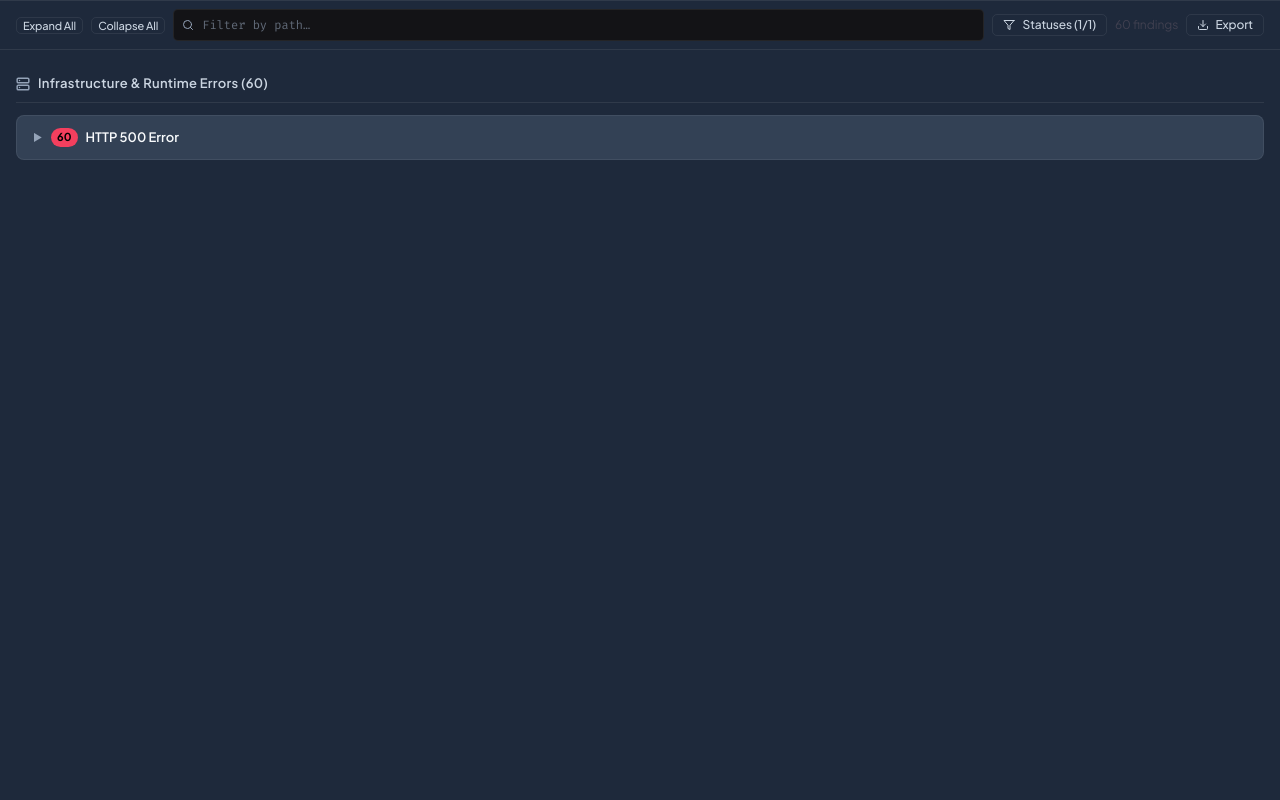
Inspector Component › limits group list to 50 items and shows more on button click
Click the text "HTTP 500 Error".
click(640, 137)  # box [16,114,1264,160]
(page scrolled)
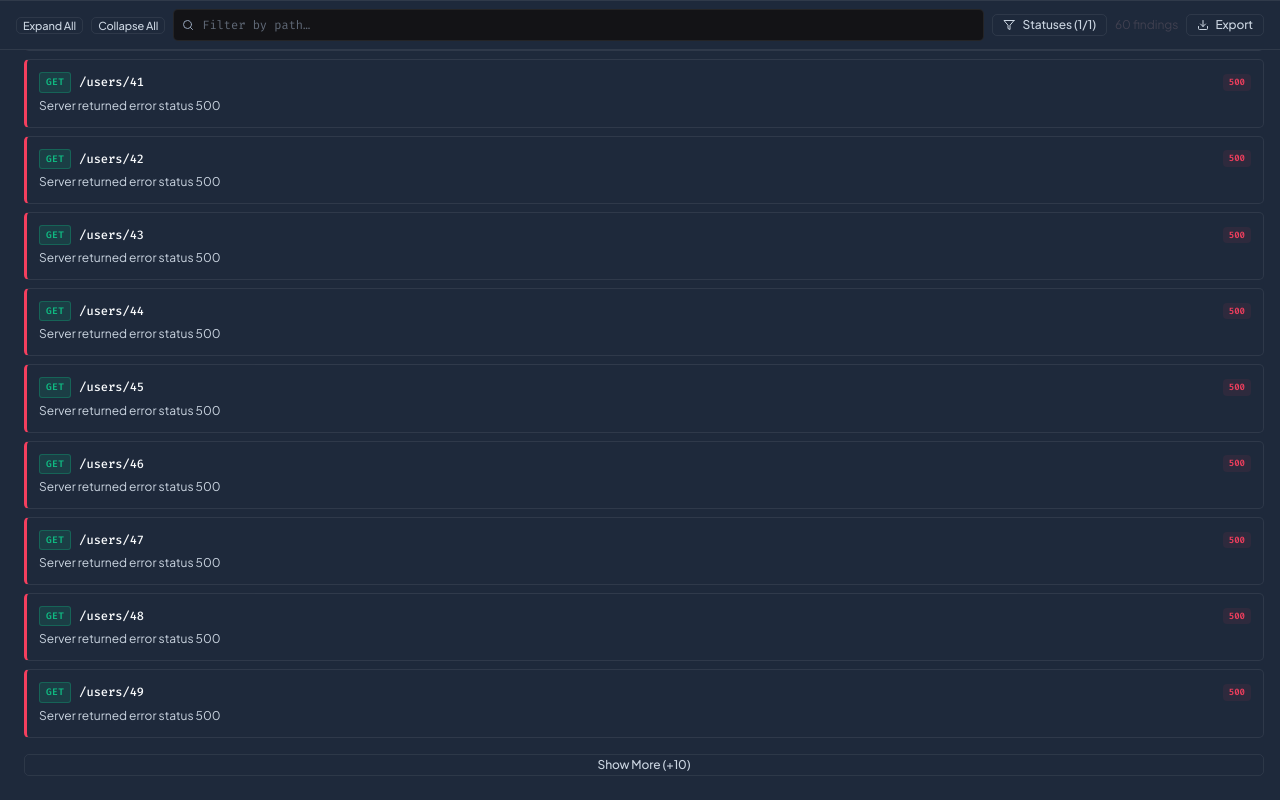
expect the text "/users/50" is not shown: met
expect the text "/users/49" is shown: met, box [79,683,144,701]
expect the button "Show More (+10)" is shown: met
# Click "Show More"
Click the button "Show More (+10)".
click(644, 764)  # box [24,754,1264,776]
(page scrolled)
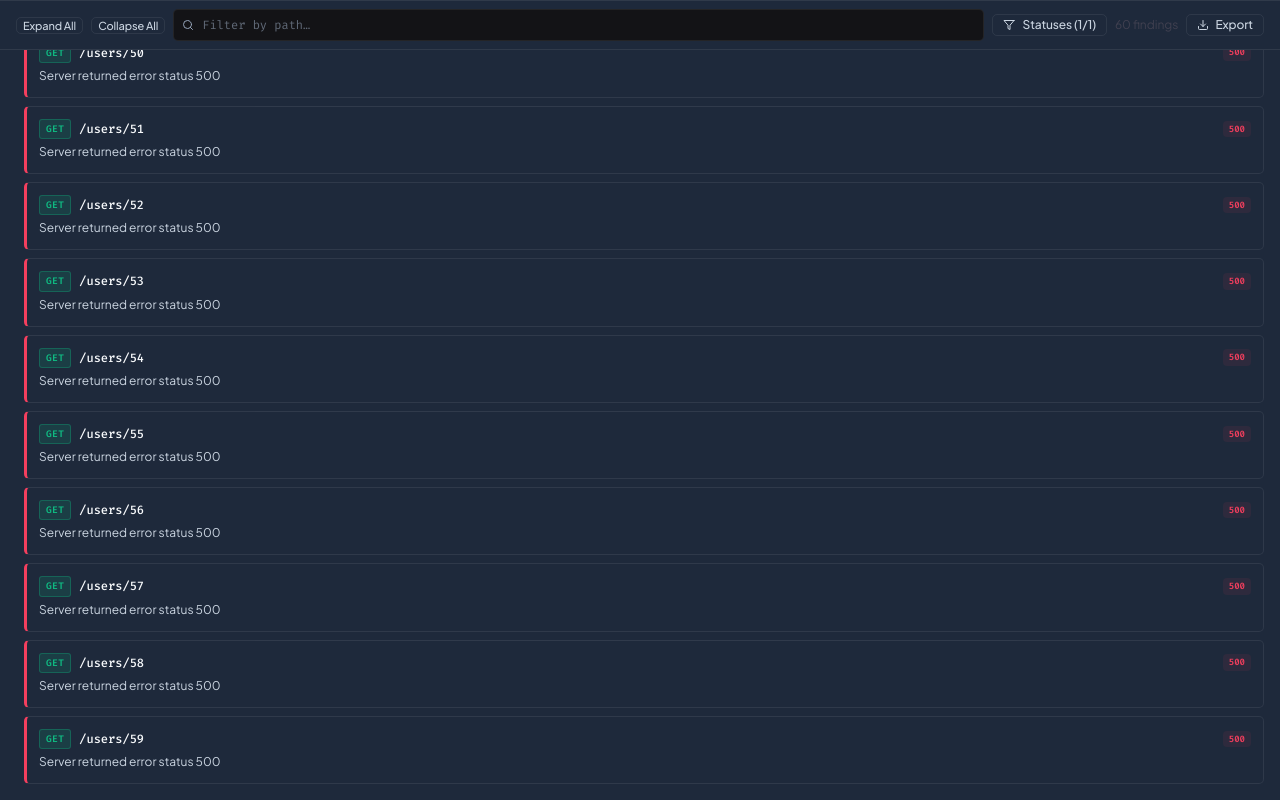
expect the text "/users/50" is shown: met, box [79,50,144,62]
expect the text "/users/59" is shown: met, box [79,730,144,748]
expect the button "Show More" is gone: met
